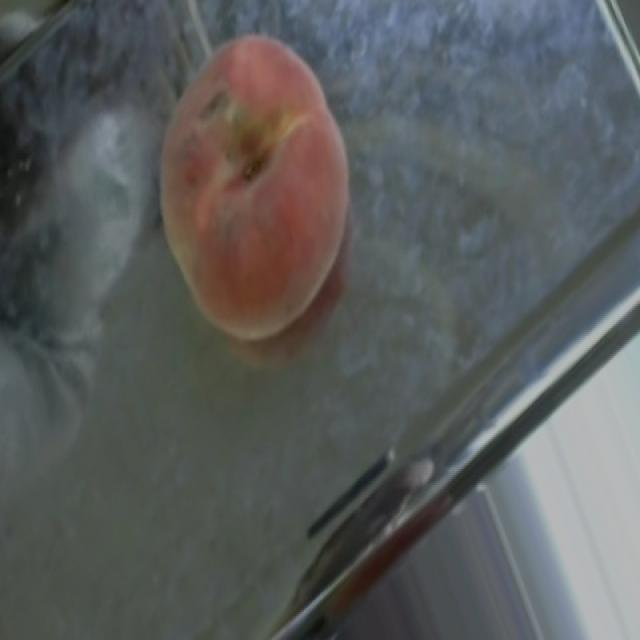Fruit: (124, 10, 388, 352)
